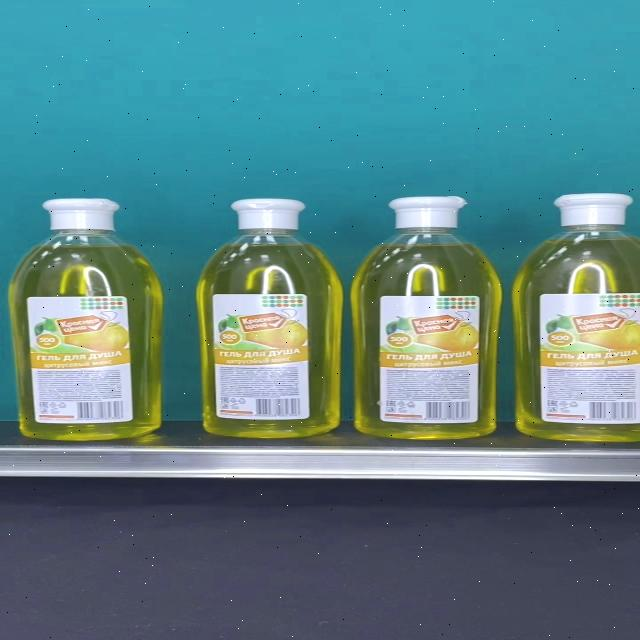Bottle: (9, 198, 162, 440), (351, 196, 502, 439), (196, 198, 343, 438), (511, 193, 640, 441)
Cap: (390, 196, 470, 230), (42, 198, 121, 232), (553, 194, 633, 226), (231, 198, 306, 230)
